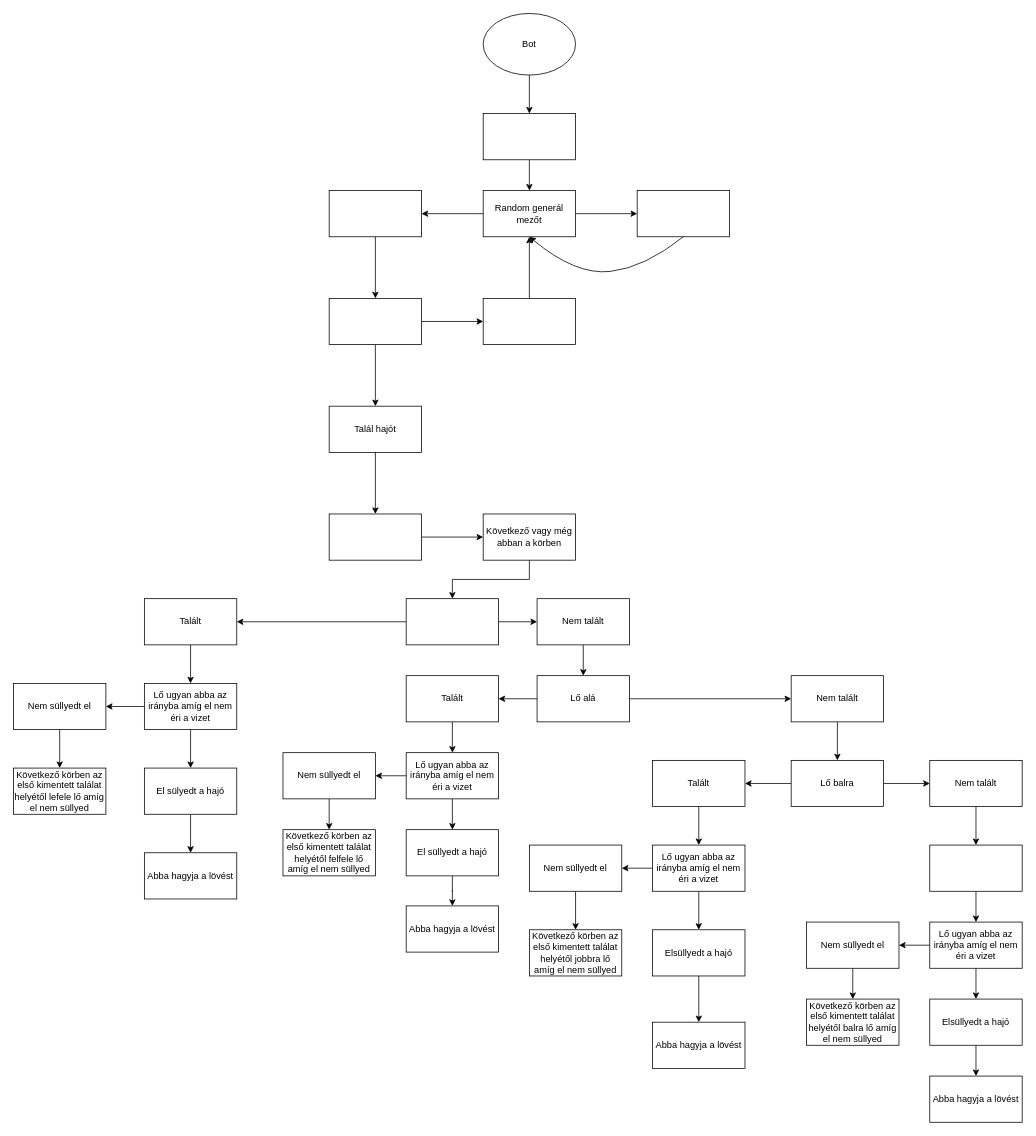
The diagram is 1036 pixels wide and 1136 high, and some of its shapes have lost their labels. The shapes that lost their labels are listed below. From the top down, each one's box as (x1, y1, x2, y2) in pixels, then its label:
(482, 113, 576, 160): Lista amiben tárolja a "már megtorpedózott" mezőket pl.:[[0,1],[7,2]]
(328, 190, 422, 237): Nincs benne a listában
(636, 190, 730, 237): Benne van a listában
(328, 298, 422, 345): Végre hajtja a lépést
(482, 298, 576, 345): Nem talál hajót
(328, 513, 422, 560): Kimenti a találat helyét
(405, 598, 499, 645): Lő felé
(929, 844, 1022, 891): Lő jobbra
